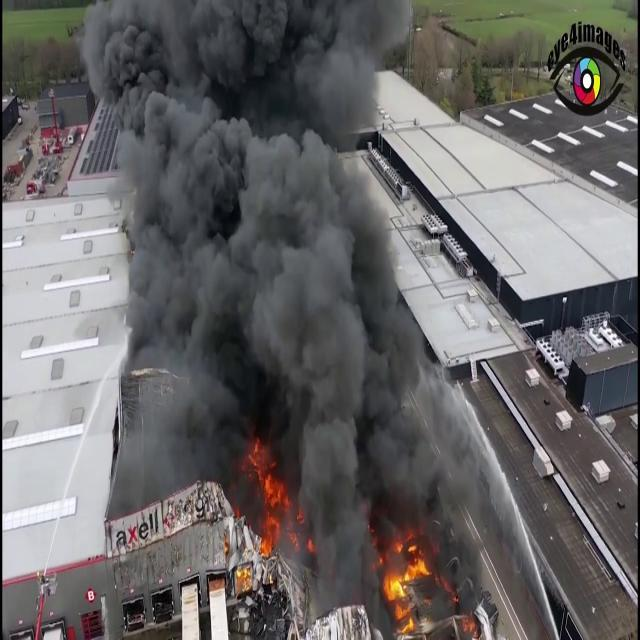Fire: (247, 462, 294, 582), (381, 537, 438, 635)
Smoke: (90, 1, 482, 550)
